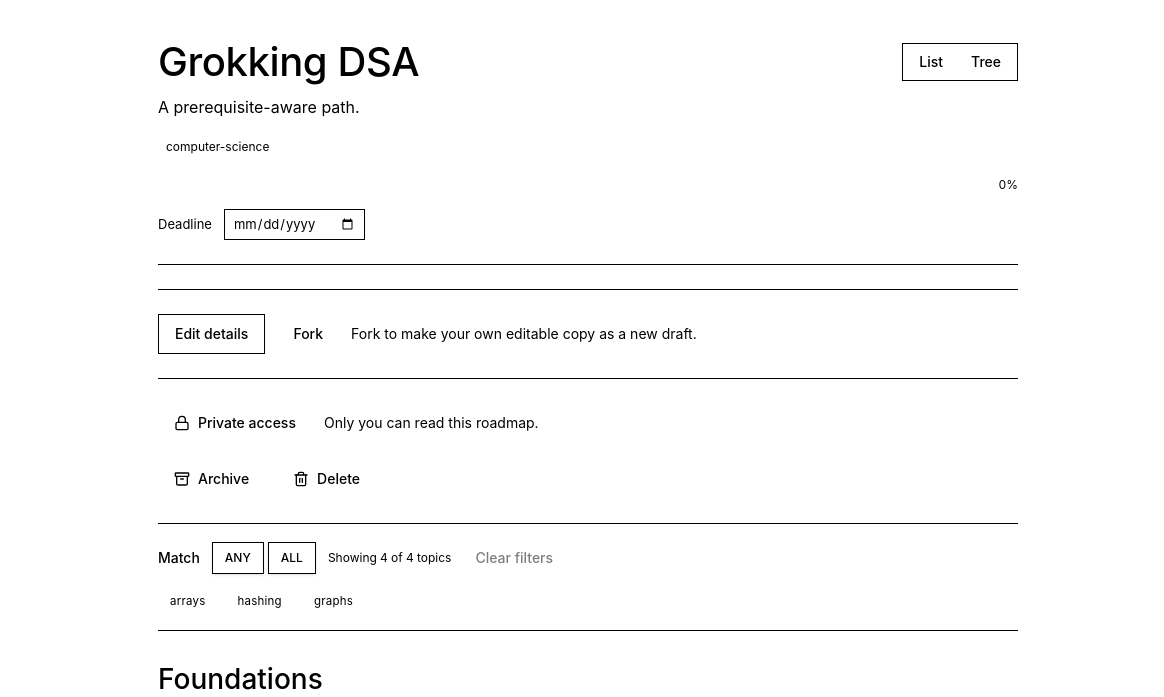
Test: RoadmapView list view (tags, filter chips, next highlight) › supports multi-selection with ANY and ALL intersection semantics
This screenshot has width=1164, height=697.
Click the button "arrays": click(188, 601) [158,588,218,614]
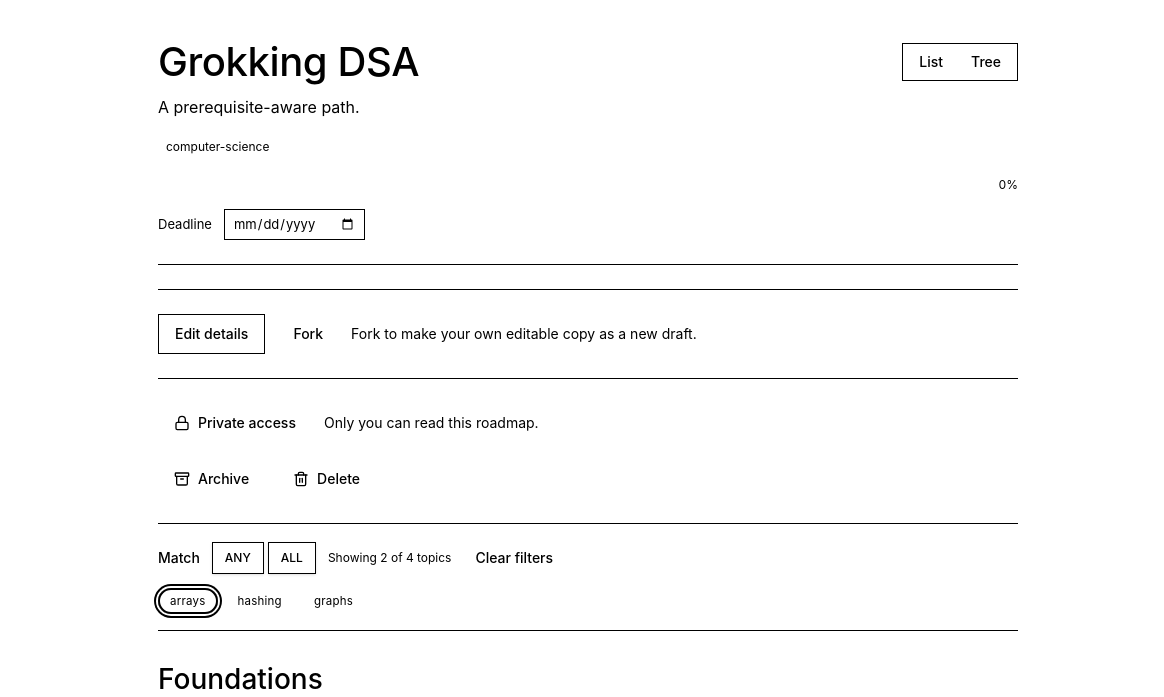
Click the button "hashing": click(260, 601) [226,588,294,614]
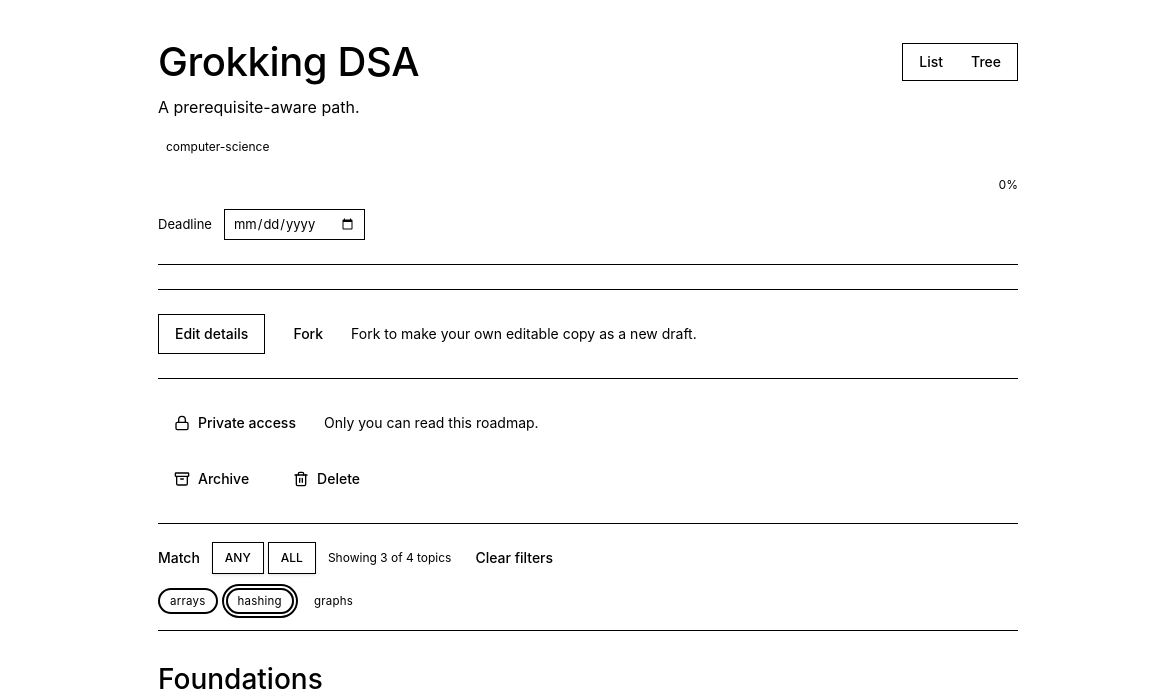
Now the text "Showing 3 of 4 topics" is shown, box [328,550,451,566]
Click the radio button labelled "ALL": click(292, 558) [268,542,316,574]
(page scrolled)
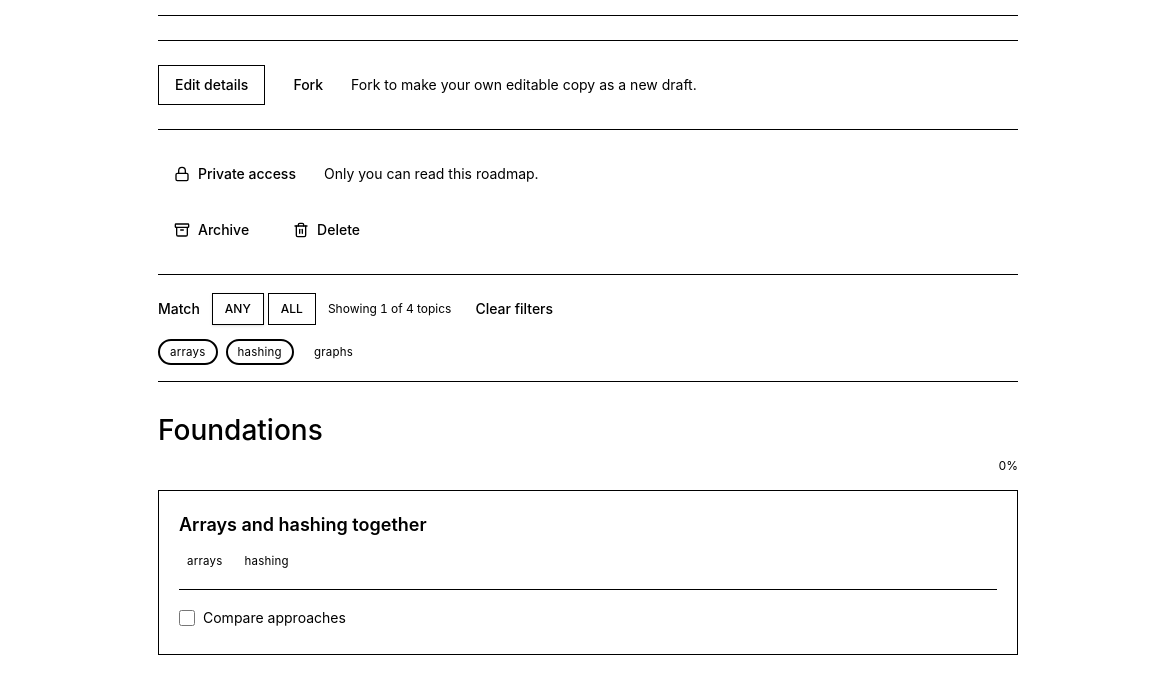
Expected: the heading "Arrays and hashing together" is shown, [179,511,427,539]
Now the text "Showing 1 of 4 topics" is shown, box [328,301,451,317]
